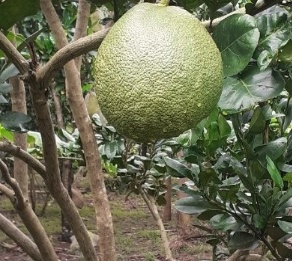Buoi: (89, 1, 224, 143)
